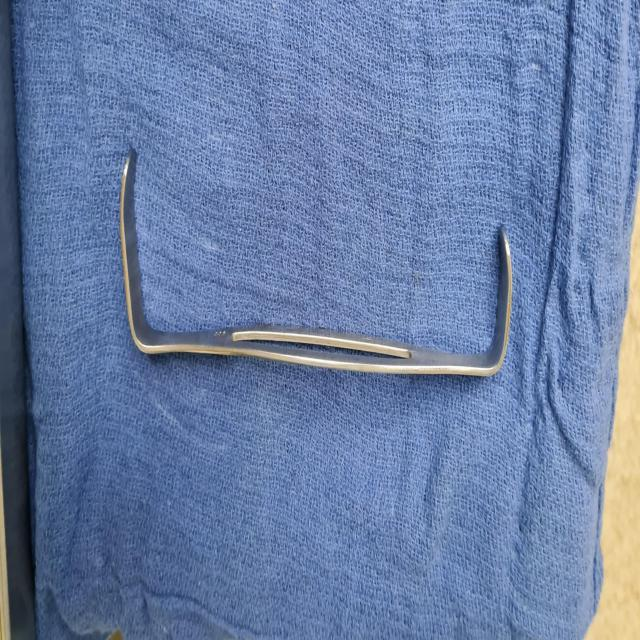Army_navy: (116, 137, 518, 392)
